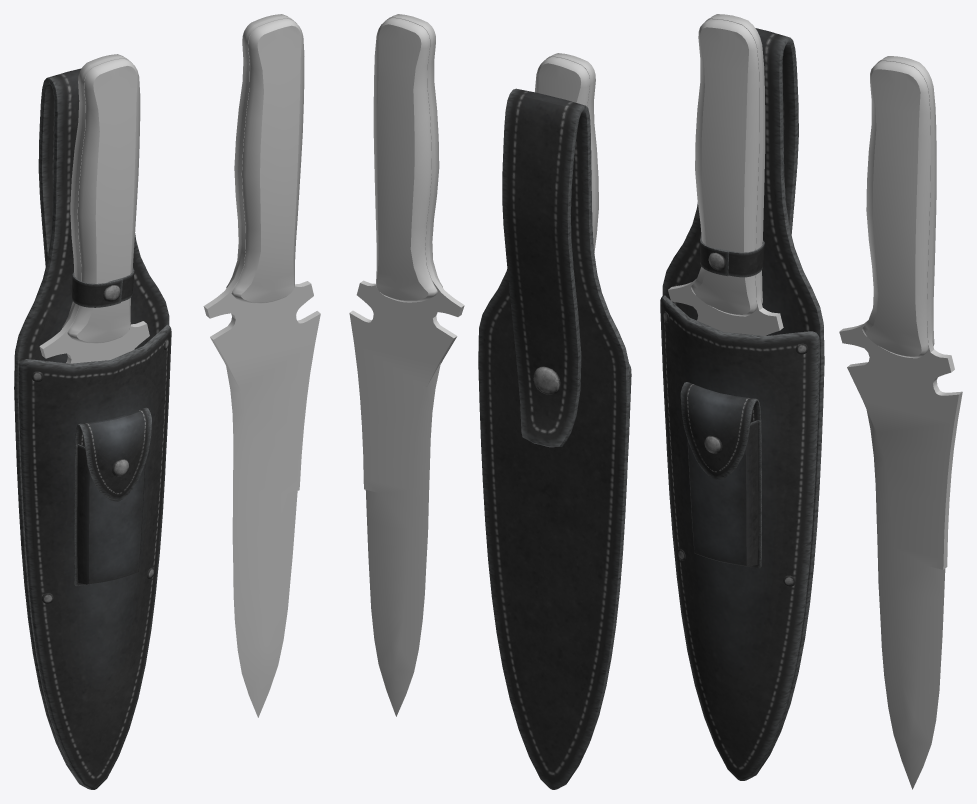
The model's file is SM_Knife.fbx.
3 views of the same model, side by side, from view 1: azimuth 30°, elevation 25°; view 2: azimuth 150°, elevation 25°; view 3: azimuth 330°, elevation 25° (orthographic). The views are drawn at different scales.
Parts seen in each view (by area): view 1: AssembledKnife; view 2: AssembledKnife; view 3: AssembledKnife.
Boxes of the visible parts, x1,y1,x2,y2 form: AssembledKnife: [14, 14, 320, 789]; AssembledKnife: [349, 14, 631, 789]; AssembledKnife: [660, 14, 962, 789].
Bounding box in the file's own units: 75.59 × 181 × 22.54.
